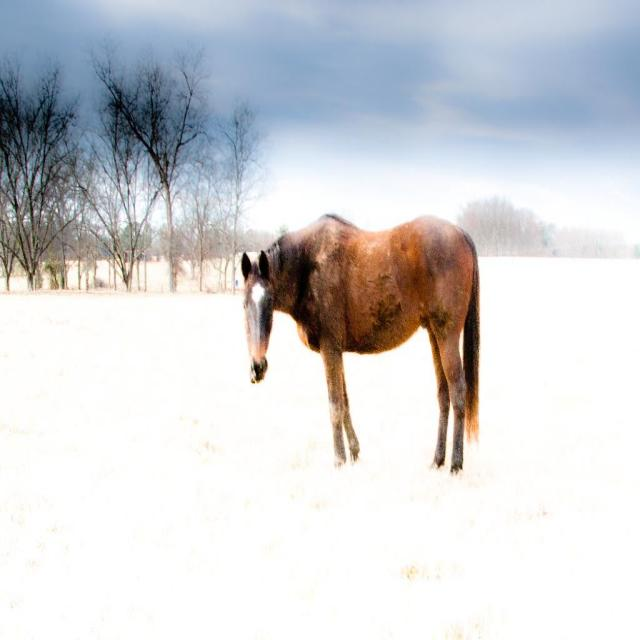Horse: (240, 209, 482, 474)
